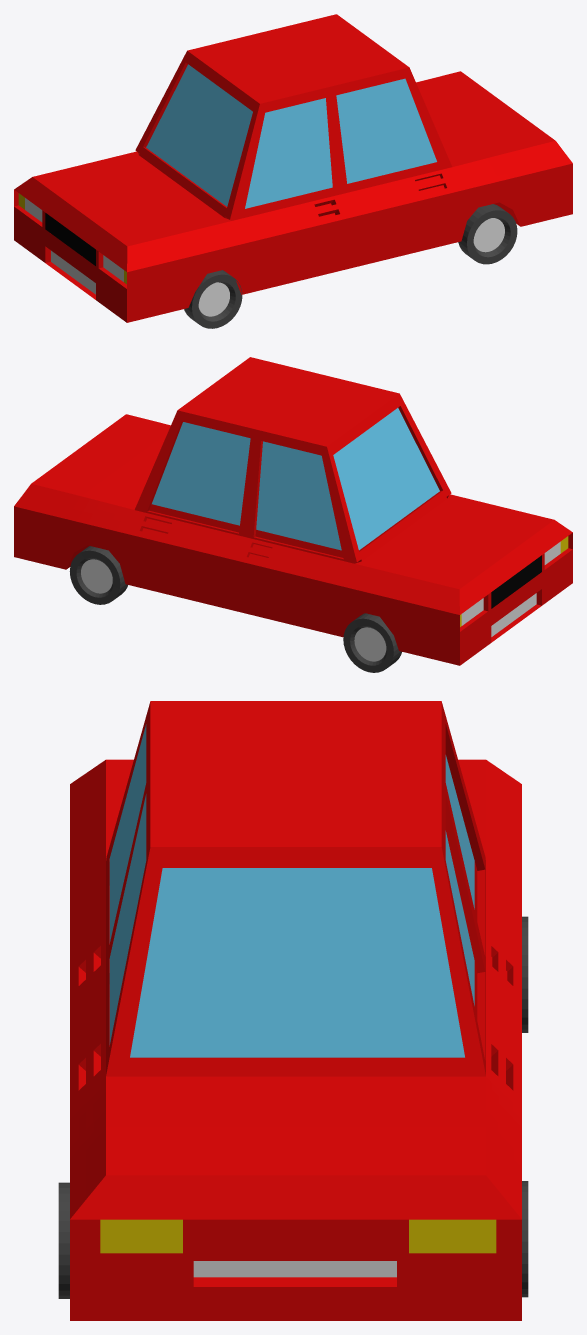
Rendered from Car.glb.
3 views of the same model, one above another, from view 1: azimuth 30°, elevation 25°; view 2: azimuth 150°, elevation 25°; view 3: azimuth 270°, elevation 25° (orthographic). The views are drawn at different scales.
Parts seen in each view (by area): view 1: CarBody, BackLeftWheel, FrontLeftWheel; view 2: CarBody, FrontRightWheel, BackRightWheel; view 3: CarBody, BackLeftWheel, FrontRightWheel, BackRightWheel.
Part boxes in pixels (x1,y1,x2,y2): CarBody: (14,14,572,322); BackLeftWheel: (458,204,517,264); FrontLeftWheel: (184,270,242,328); CarBody: (14,357,572,665); FrontRightWheel: (343,613,401,672); BackRightWheel: (69,546,127,604); CarBody: (70,701,521,1320); BackLeftWheel: (58,1182,69,1298); FrontRightWheel: (522,916,528,1032); BackRightWheel: (522,1181,528,1297).
Bounding box in the file's own units: 4.56 × 1.9 × 2.08.
